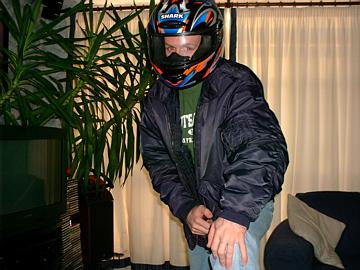helmet: (140, 1, 229, 81)
